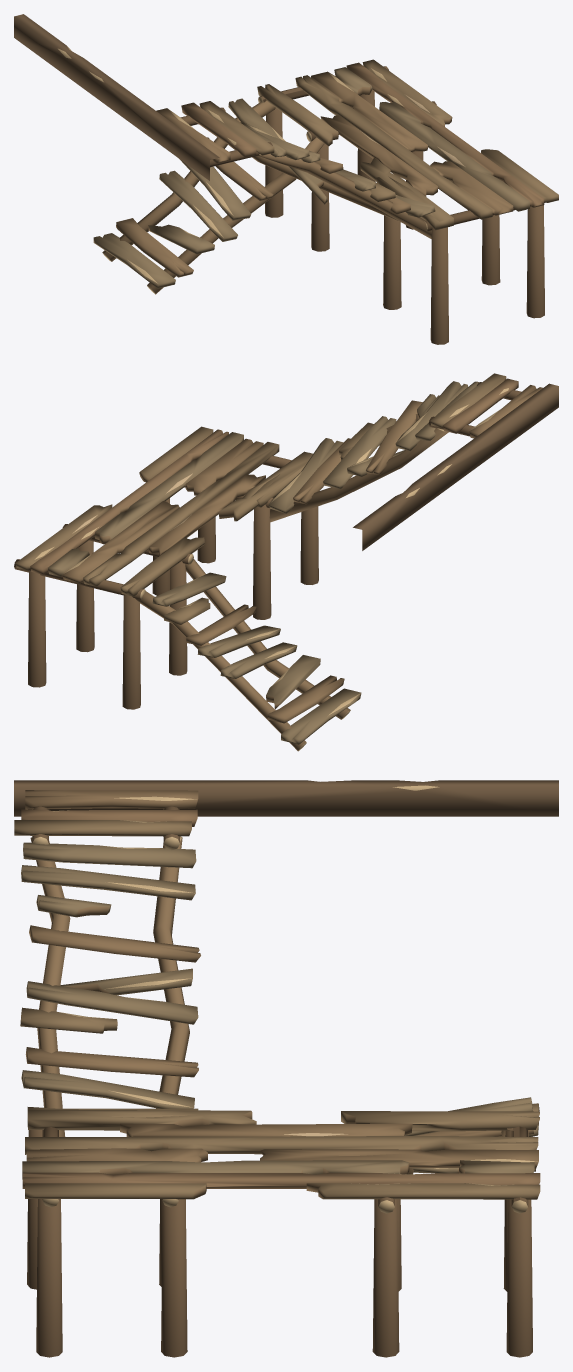
Rendered from rpgpp_av_stairs_interior_01c_4m.gltf.
3 renders of one model, top to bottom at view 1: azimuth 30°, elevation 25°; view 2: azimuth 150°, elevation 25°; view 3: azimuth 270°, elevation 25°, orthographic. The views are drawn at different scales.
Visible parts, largest first — view 1: rpgpp_av_stairs_interior_01c_4m; view 2: rpgpp_av_stairs_interior_01c_4m; view 3: rpgpp_av_stairs_interior_01c_4m.
Part boxes in pixels (left/top/right/bottom): rpgpp_av_stairs_interior_01c_4m: left=14, top=14, right=558, bottom=344; rpgpp_av_stairs_interior_01c_4m: left=14, top=373, right=558, bottom=751; rpgpp_av_stairs_interior_01c_4m: left=14, top=780, right=558, bottom=1357.
Size of the model in its own units: 0.0622 by 0.0418 by 0.0589.
1 material, 1 textured.
